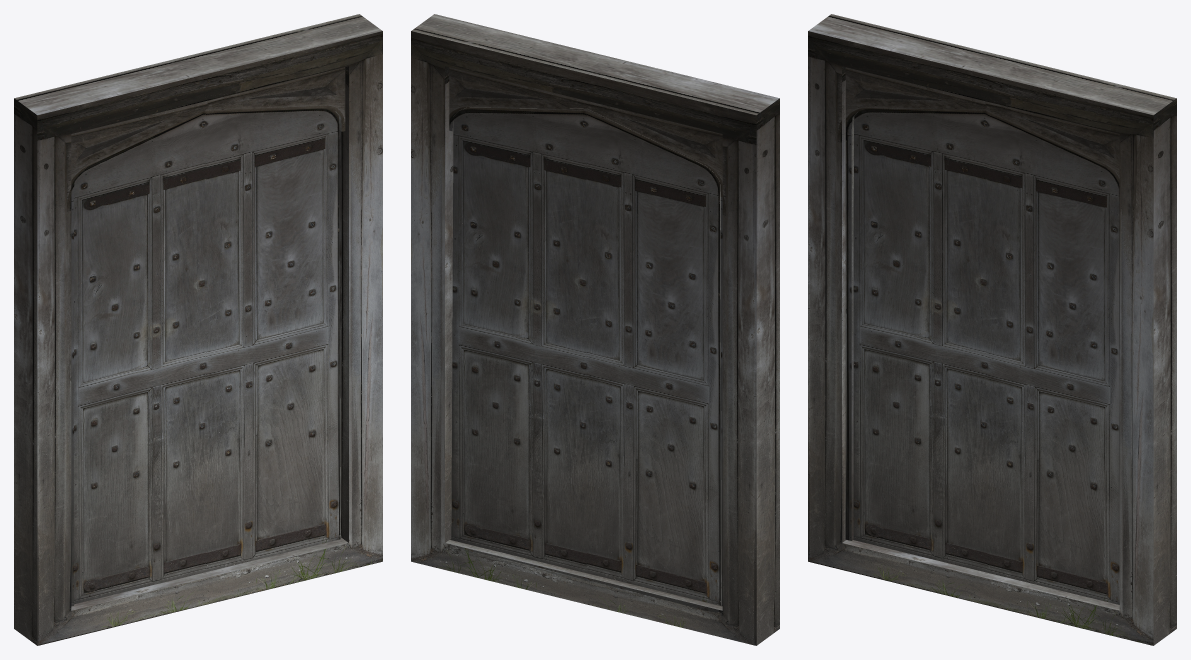
The model's file is Door_C.fbx.
The picture shows the model from 3 angles, left to right: view 1: azimuth 30°, elevation 25°; view 2: azimuth 150°, elevation 25°; view 3: azimuth 330°, elevation 25°; orthographic projection.
Visible parts, largest first — view 1: Door_C, DoorFrame; view 2: Door_C, DoorFrame; view 3: Door_C, DoorFrame.
Part boxes in pixels (x1,y1,x2,y2): Door_C: (74, 108, 341, 604); DoorFrame: (14, 14, 382, 645); Door_C: (451, 107, 722, 605); DoorFrame: (411, 14, 779, 645); Door_C: (853, 108, 1119, 604); DoorFrame: (808, 14, 1176, 645).
Bounding box in the file's own units: 3.69 × 5.41 × 0.4313.
Materials: 1 (1 with a texture image).
